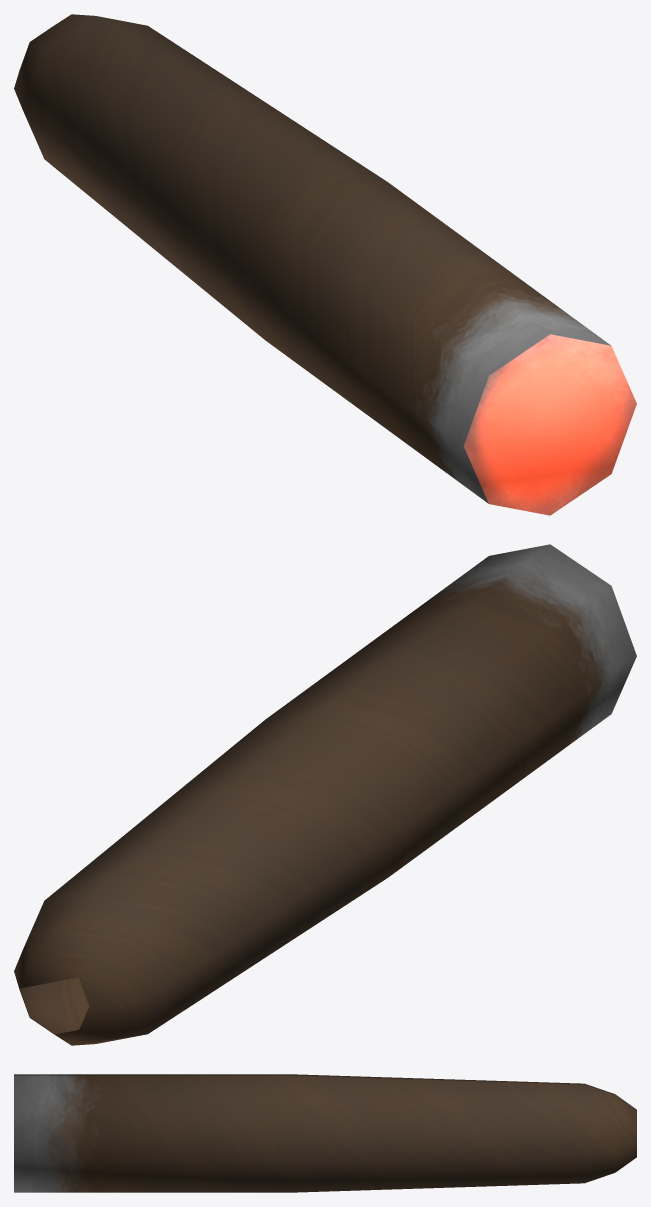
The model's file is charuto.fbx.
3 views of the same model, one above another, from view 1: azimuth 30°, elevation 25°; view 2: azimuth 150°, elevation 25°; view 3: azimuth 270°, elevation 25° (orthographic). The views are drawn at different scales.
Visible parts, largest first — view 1: Cylinder.001; view 2: Cylinder.001; view 3: Cylinder.001.
Part boxes in pixels (x1,y1,x2,y2): Cylinder.001: (14, 14, 636, 515); Cylinder.001: (14, 544, 636, 1045); Cylinder.001: (14, 1074, 636, 1192).
Size of the model in its own units: 24.05 by 24.05 by 119.
Materials: 1 (1 with a texture image).
